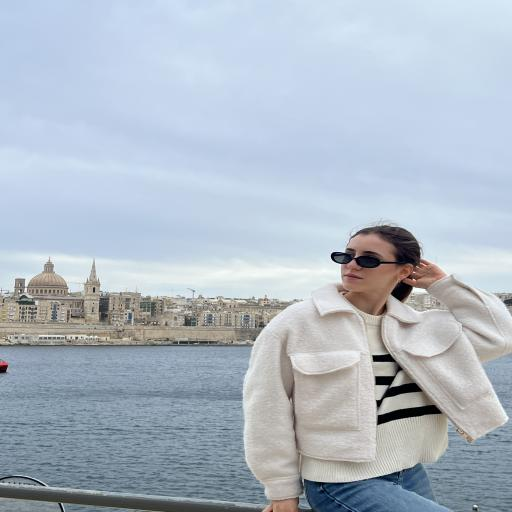masa: (340, 234, 405, 295)
